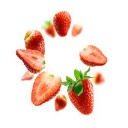strawberry: (61, 70, 95, 115), (30, 68, 61, 106), (53, 11, 71, 37)
